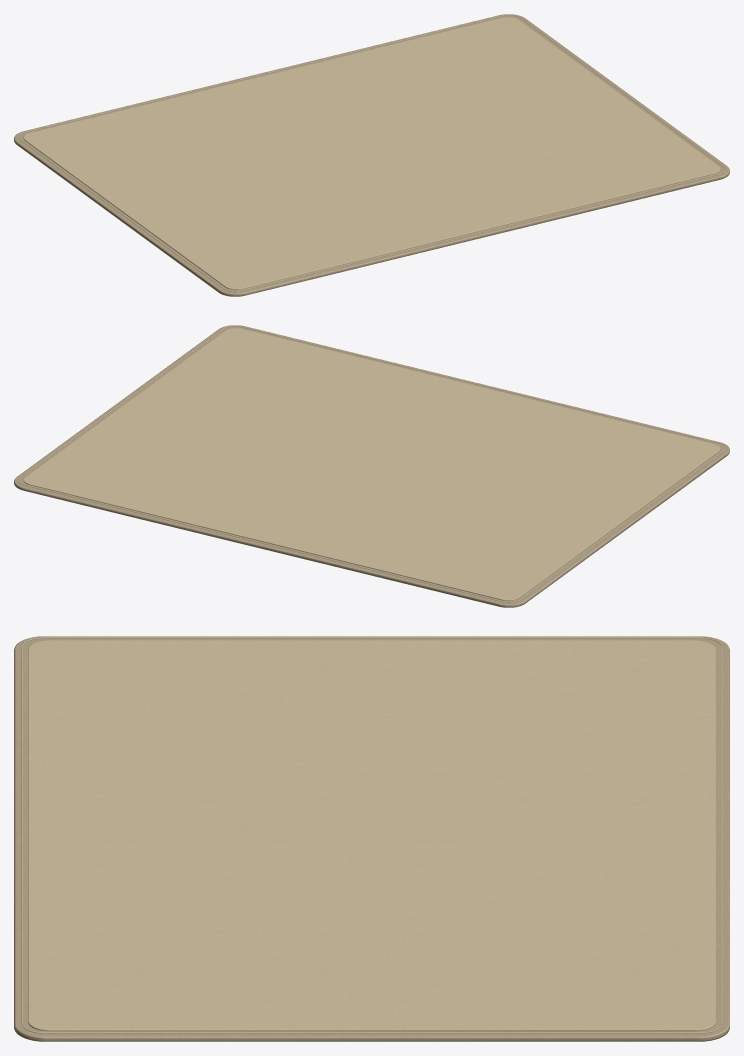
Rendered from home_rug.glb.
3 renders of one model, top to bottom at view 1: azimuth 30°, elevation 25°; view 2: azimuth 150°, elevation 25°; view 3: azimuth 270°, elevation 25°, orthographic. The views are drawn at different scales.
Parts seen in each view (by area): view 1: Rug_detail_group, Linen_Oat_detail_group, Seam_Cream_detail_group; view 2: Rug_detail_group, Linen_Oat_detail_group, Seam_Cream_detail_group; view 3: Rug_detail_group, Linen_Oat_detail_group, Seam_Cream_detail_group.
Boxes of the visible parts, <box> form: Rug_detail_group: <box>23,17,720,289</box>; Linen_Oat_detail_group: <box>14,14,729,296</box>; Seam_Cream_detail_group: <box>18,15,725,291</box>; Rug_detail_group: <box>23,328,720,600</box>; Linen_Oat_detail_group: <box>14,325,729,607</box>; Seam_Cream_detail_group: <box>18,326,725,602</box>; Rug_detail_group: <box>28,640,715,1031</box>; Linen_Oat_detail_group: <box>14,636,729,1041</box>; Seam_Cream_detail_group: <box>21,637,722,1033</box>.
Size of the model in its own units: 3 by 0.023 by 2.26.
Materials: 3 (2 with a texture image).
